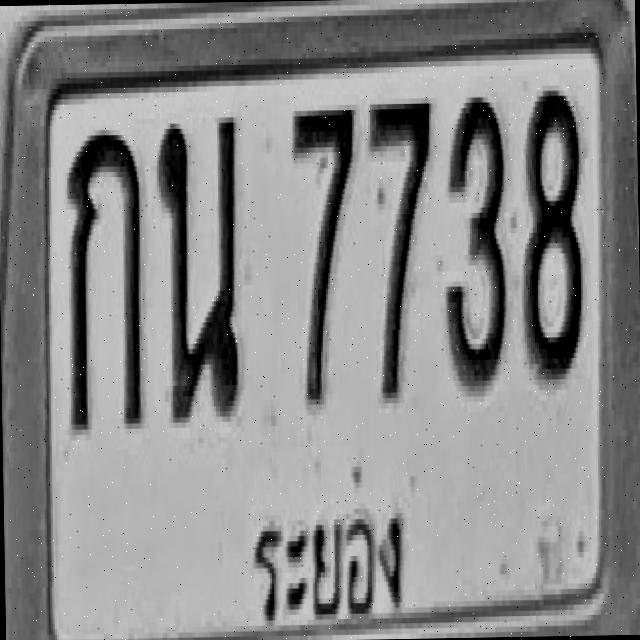10GorGai: (64, 124, 144, 430)
3: (441, 89, 508, 389)
34NorNu: (156, 109, 244, 420)
7: (291, 99, 359, 405), (367, 94, 435, 400)
8: (520, 80, 584, 380)
Rayong: (237, 486, 417, 640)
